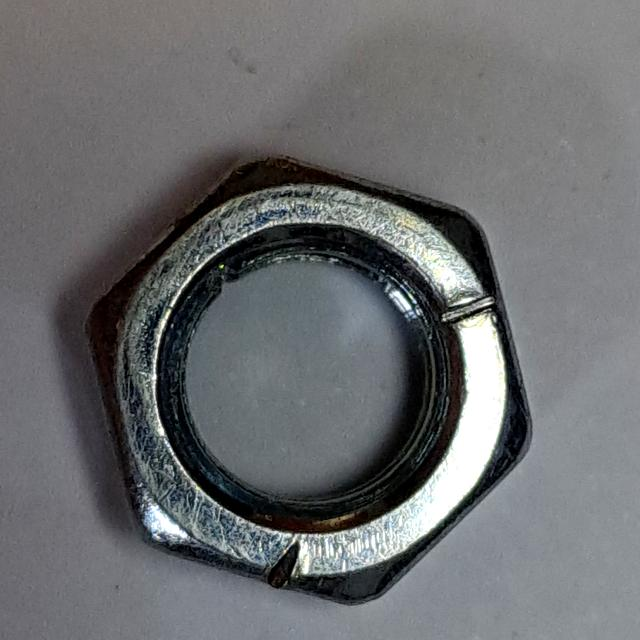Scratches: (70, 147, 550, 629)
